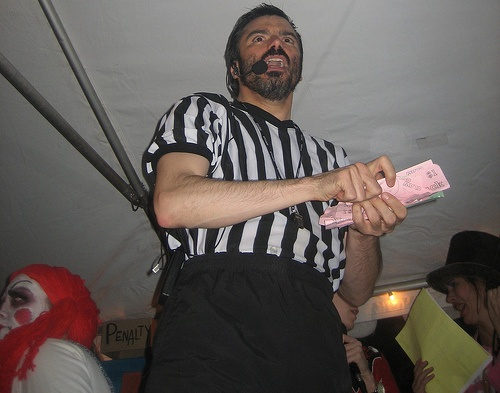head: (1, 262, 102, 347), (224, 5, 304, 101), (424, 229, 500, 329)
person: (145, 1, 408, 393), (1, 263, 127, 390), (424, 232, 498, 391)
